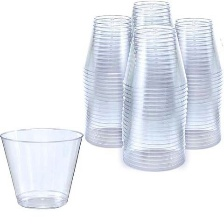glass: (115, 22, 191, 177), (118, 0, 179, 149), (73, 12, 134, 152), (165, 13, 224, 155), (0, 122, 87, 211)
